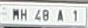character: (12, 8, 20, 20), (20, 8, 27, 20), (34, 9, 41, 21), (42, 9, 49, 21), (56, 9, 63, 21), (72, 10, 78, 21)
